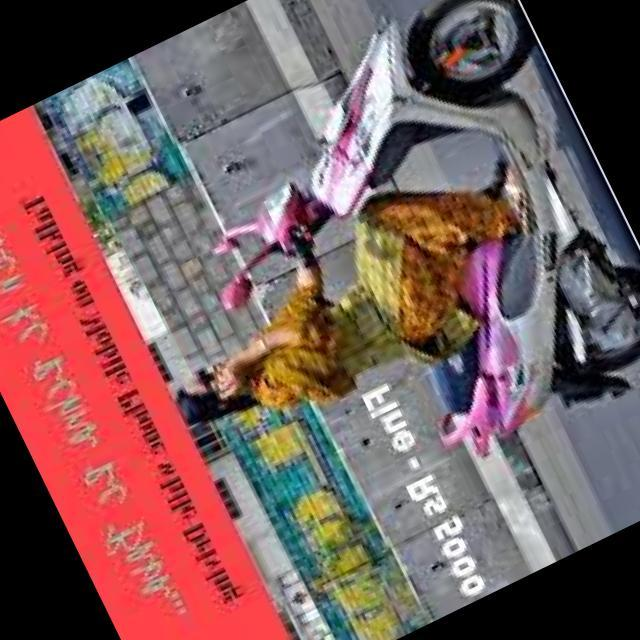USING_MOBILE: (200, 312, 327, 406)
